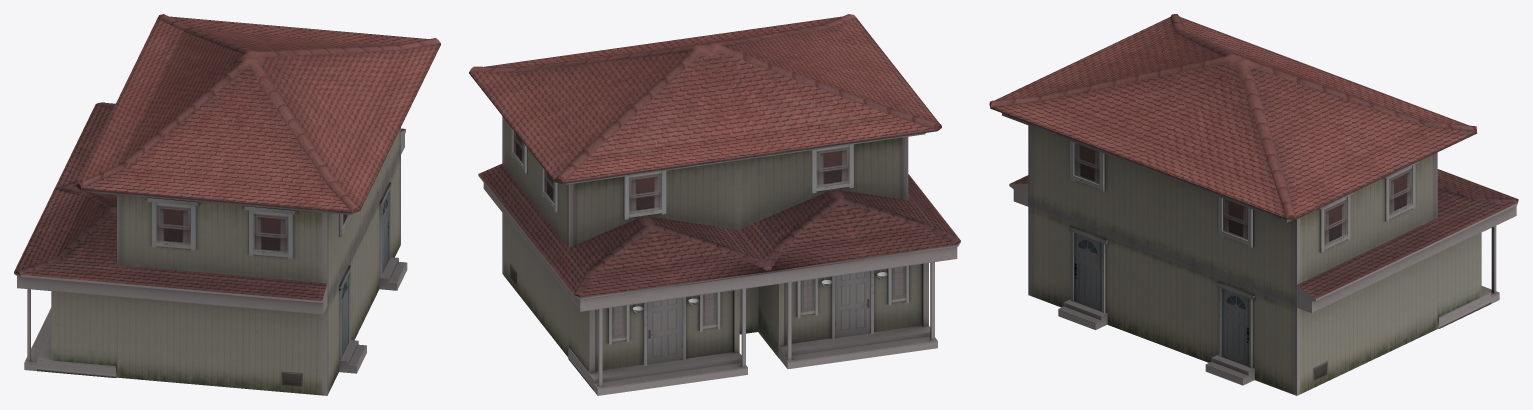
3 views of the same model, side by side, from view 1: azimuth 30°, elevation 25°; view 2: azimuth 150°, elevation 25°; view 3: azimuth 270°, elevation 25° (orthographic).
Parts seen in each view (by area): view 1: City_building_054; view 2: City_building_054; view 3: City_building_054.
Part boxes in pixels (x1,y1,x2,y2): City_building_054: (14, 14, 440, 395); City_building_054: (469, 14, 960, 395); City_building_054: (989, 14, 1518, 395).
Bounding box in the file's own units: 2246 × 2267 × 1188.
Materials: 1 (1 with a texture image).
